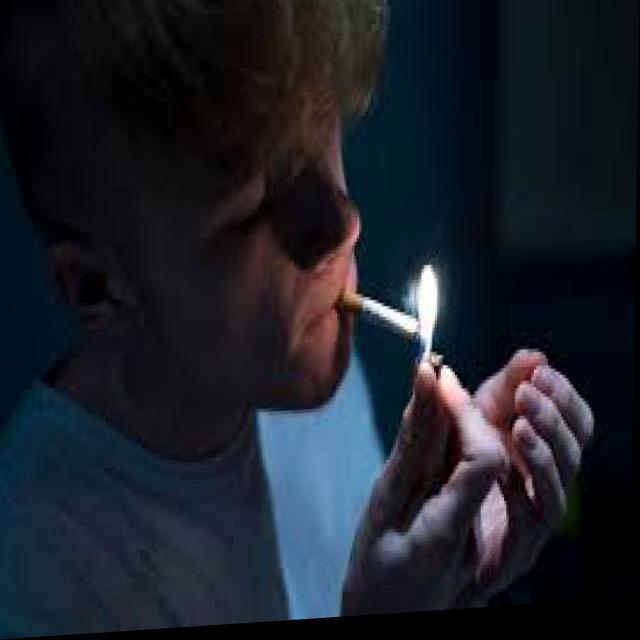fire: (405, 260, 439, 360)
